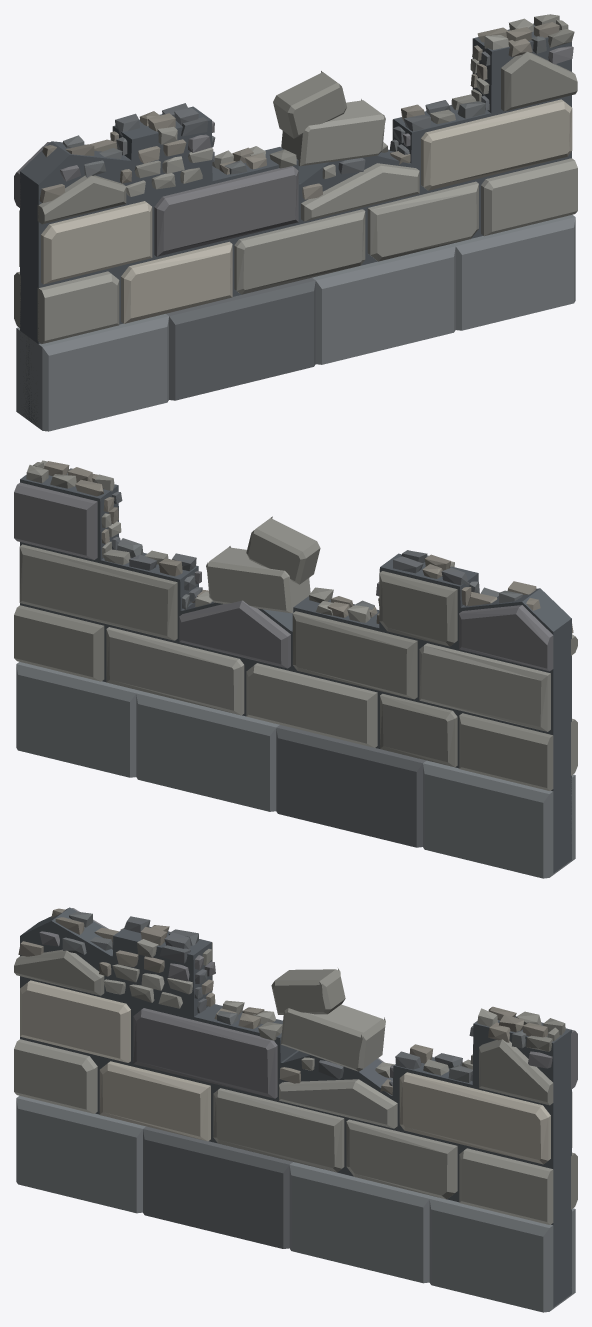
The model's file is SM_LPD_Struct_WallRuinHalf_01.fbx.
3 renders of one model, top to bottom at view 1: azimuth 30°, elevation 25°; view 2: azimuth 150°, elevation 25°; view 3: azimuth 330°, elevation 25°, orthographic.
Visible parts, largest first — view 1: SM_LPD_Struct_WallRuinHalf_01; view 2: SM_LPD_Struct_WallRuinHalf_01; view 3: SM_LPD_Struct_WallRuinHalf_01.
Part boxes in pixels (bbox=[...]): SM_LPD_Struct_WallRuinHalf_01: bbox=[14, 14, 577, 431]; SM_LPD_Struct_WallRuinHalf_01: bbox=[14, 460, 577, 878]; SM_LPD_Struct_WallRuinHalf_01: bbox=[14, 907, 577, 1312].
Bounding box in the file's own units: 4 × 1.98 × 0.4.
